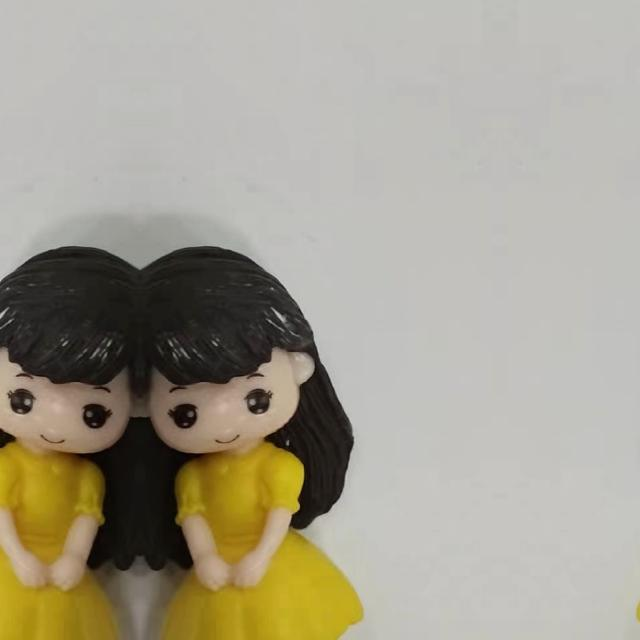woman head: (140, 450, 382, 640), (152, 268, 332, 467), (0, 450, 140, 640), (0, 267, 128, 466), (618, 450, 640, 640)
